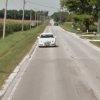Car: (34, 27, 65, 49)
